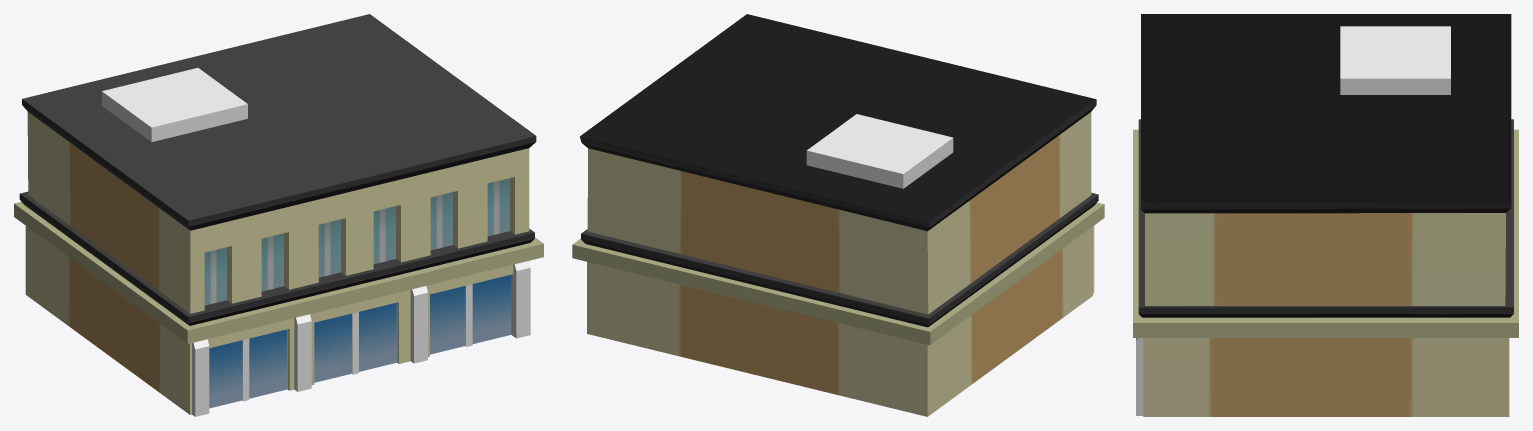
File: French Stack House 1.fbx
3 views of the same model, side by side, from view 1: azimuth 30°, elevation 25°; view 2: azimuth 150°, elevation 25°; view 3: azimuth 270°, elevation 25° (orthographic). The views are drawn at different scales.
Visible parts, largest first — view 1: French Stack House 1; view 2: French Stack House 1; view 3: French Stack House 1.
Part boxes in pixels (box(x1,y1,x2,y2)): French Stack House 1: box(14, 14, 543, 416); French Stack House 1: box(572, 14, 1104, 416); French Stack House 1: box(1133, 14, 1518, 416).
Size of the model in its own units: 4.19 by 2.37 by 3.54.
